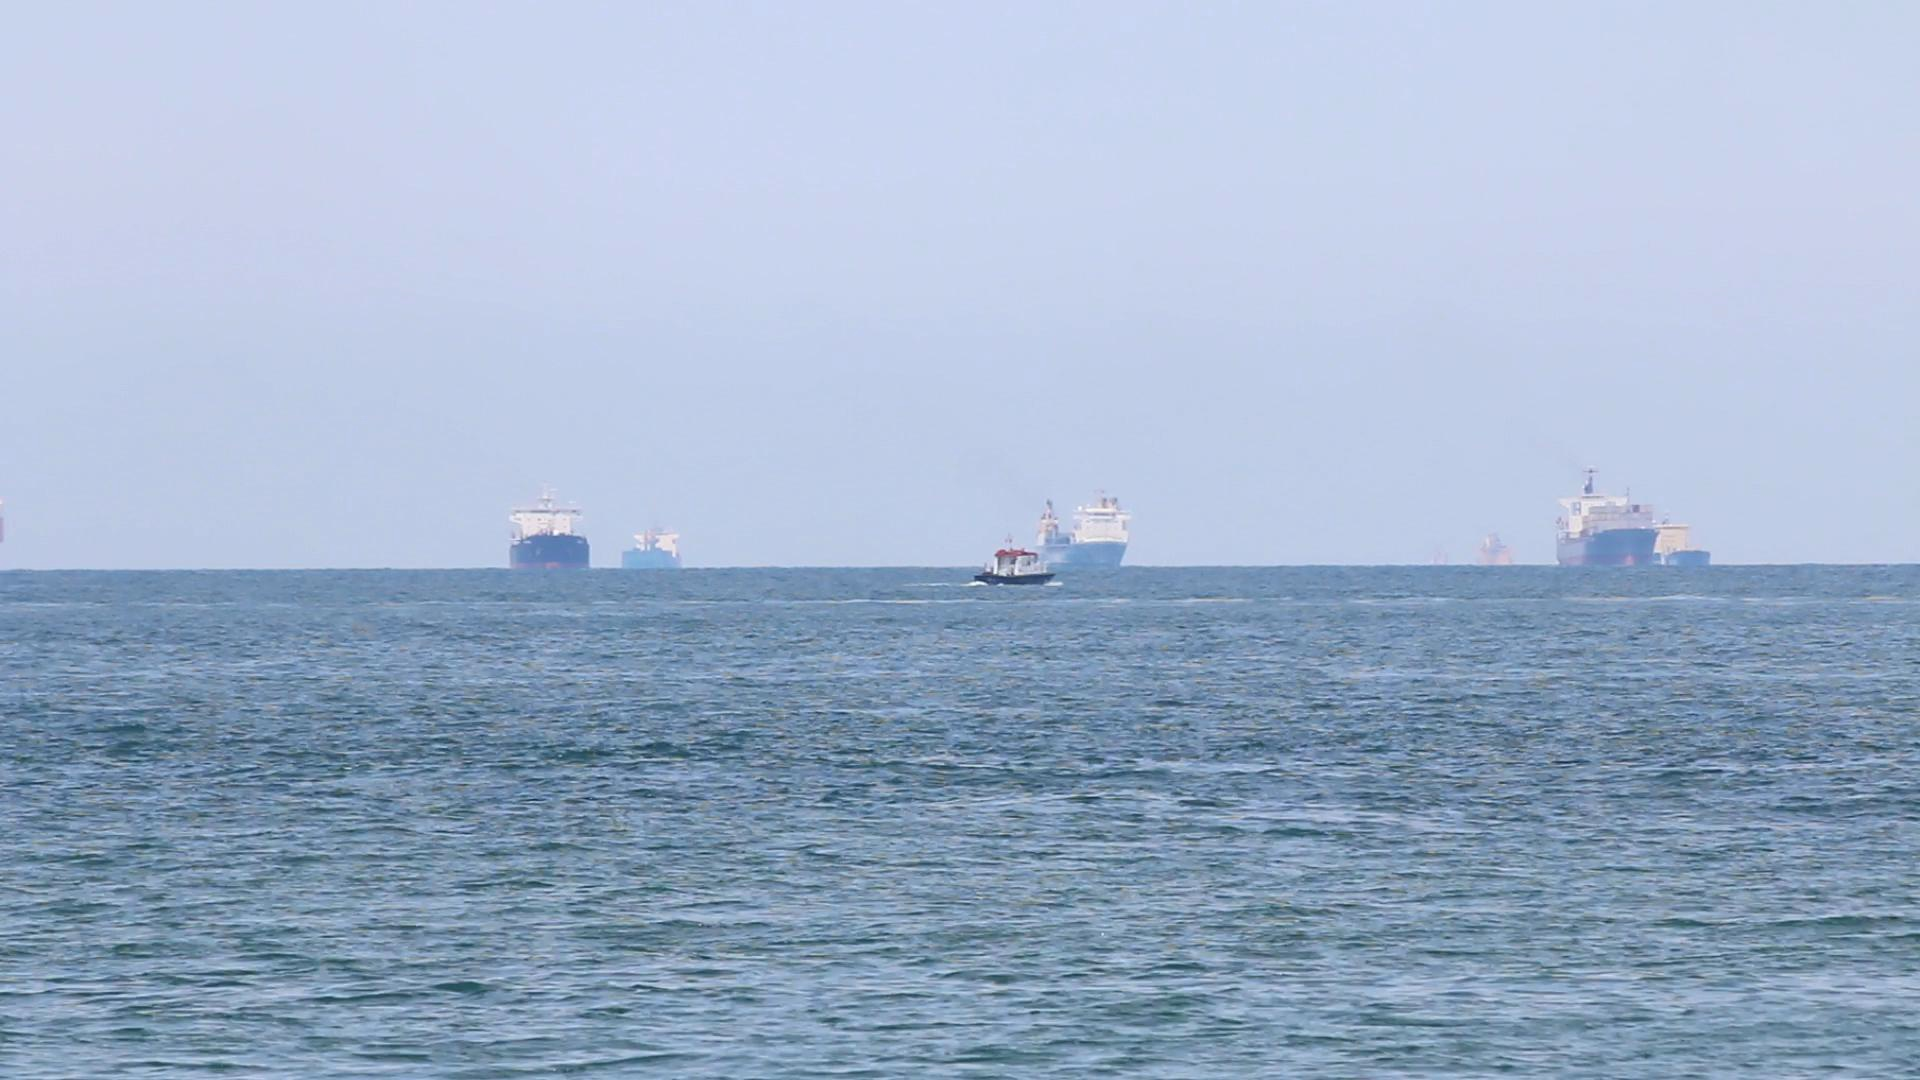Container Ship: (1553, 460, 1651, 572), (500, 479, 597, 580), (1029, 484, 1131, 580), (971, 522, 1063, 596), (618, 518, 691, 583), (1652, 509, 1717, 574), (1473, 525, 1524, 572)
